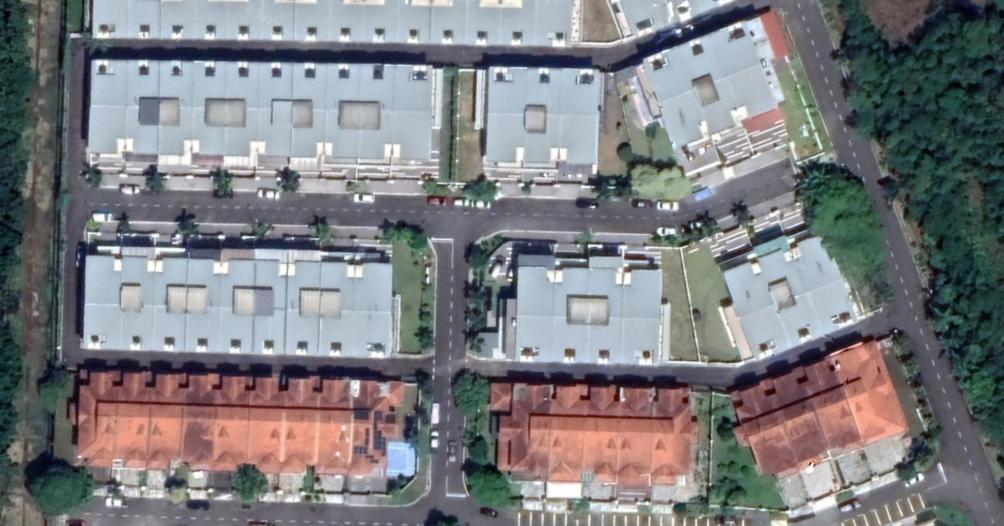building: (827, 335, 914, 450), (718, 253, 796, 365), (635, 41, 710, 153), (796, 230, 867, 338), (713, 15, 783, 124), (764, 241, 829, 349), (766, 364, 829, 475), (726, 378, 794, 478), (682, 28, 742, 141), (489, 377, 551, 485), (799, 354, 860, 462), (648, 381, 704, 488), (83, 53, 133, 159), (481, 60, 530, 168), (76, 249, 126, 351), (512, 261, 558, 369), (561, 64, 606, 169), (627, 263, 669, 370), (523, 64, 564, 171), (546, 382, 588, 485), (612, 382, 652, 489), (396, 59, 436, 164), (578, 383, 617, 489), (557, 262, 595, 370), (290, 255, 327, 363), (360, 254, 396, 364), (325, 254, 361, 361), (257, 255, 292, 362), (328, 59, 363, 164), (364, 58, 398, 165), (225, 255, 259, 362), (262, 58, 297, 161), (196, 56, 230, 161), (193, 253, 226, 361), (593, 262, 626, 370), (162, 56, 196, 160), (161, 249, 193, 358), (297, 60, 330, 162), (127, 250, 158, 356), (231, 58, 262, 162), (133, 55, 162, 162)
